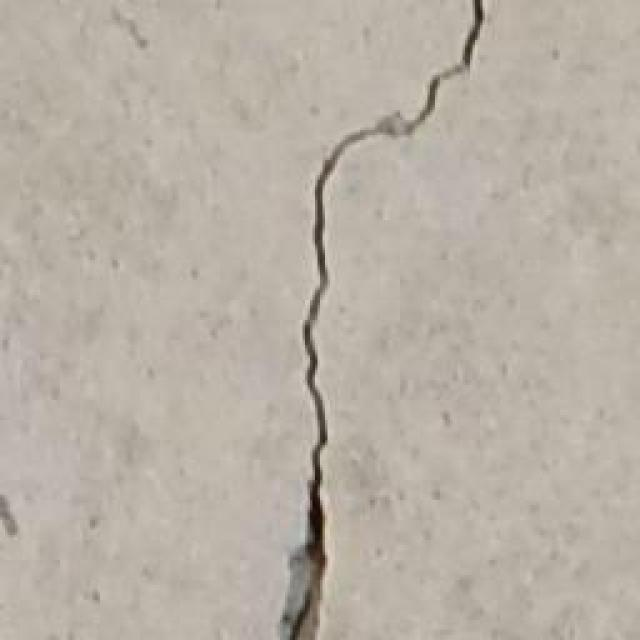concrete-crack: (275, 0, 485, 640)
